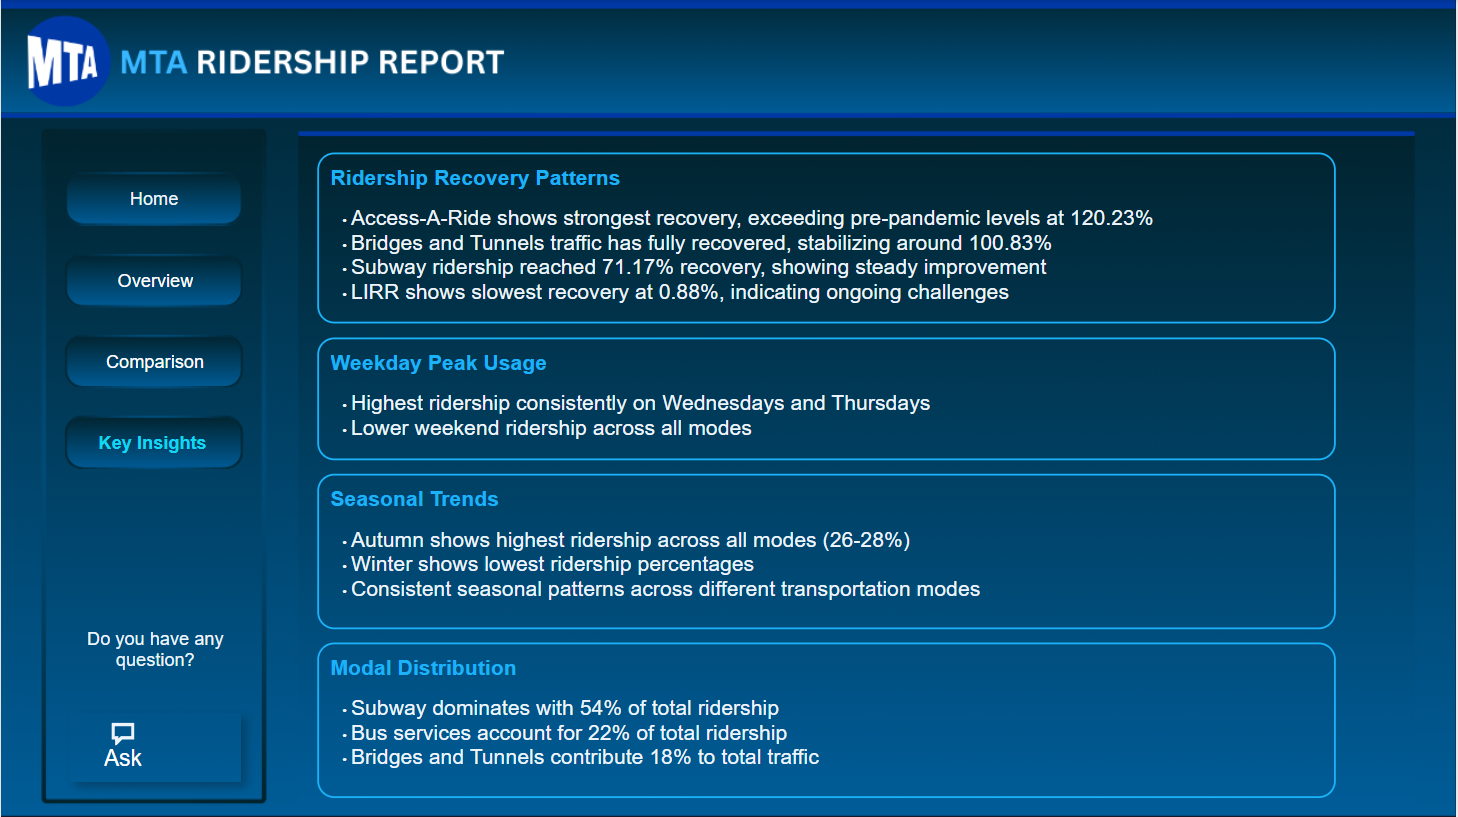

This screenshot's page, from the dashboard's own definition file:
{"tool":"powerbi","page":{"name":"Key Insights","canvas":[1280,720],"ordinal":3},"visuals":[{"type":"actionButton","box":[84.4,155.2,100,40.6],"z":0},{"type":"actionButton","box":[67.7,228.1,135.4,38.5],"z":1000},{"type":"actionButton","box":[60.4,299,150,39.6],"z":2000},{"type":"actionButton","box":[60.4,370.8,145.8,38.5],"z":3000},{"type":"textbox","box":[278.1,134.4,895.8,150],"z":4000},{"type":"textbox","box":[278.1,296.5,895.8,108.3],"z":5000},{"type":"textbox","box":[278.1,417,895.8,136.5],"z":6000},{"type":"textbox","box":[278.1,565.6,895.8,136.5],"z":7000},{"type":"actionButton","box":[60.8,626.8,150.5,60.8],"z":8000},{"type":"textbox","box":[60.8,553.6,150.5,44.3],"z":9000}]}

Visuals, with their boxes in screenshot pixels (x1, y1, x2, y2), scaled from the page's 1280x720 canvas onto the 1458x817 screenshot:
actionButton: (96,176,210,222)
actionButton: (77,259,231,303)
actionButton: (69,339,240,384)
actionButton: (69,421,235,464)
textbox: (317,153,1337,323)
textbox: (317,336,1337,459)
textbox: (317,473,1337,628)
textbox: (317,642,1337,797)
actionButton: (69,711,241,780)
textbox: (69,628,241,678)
